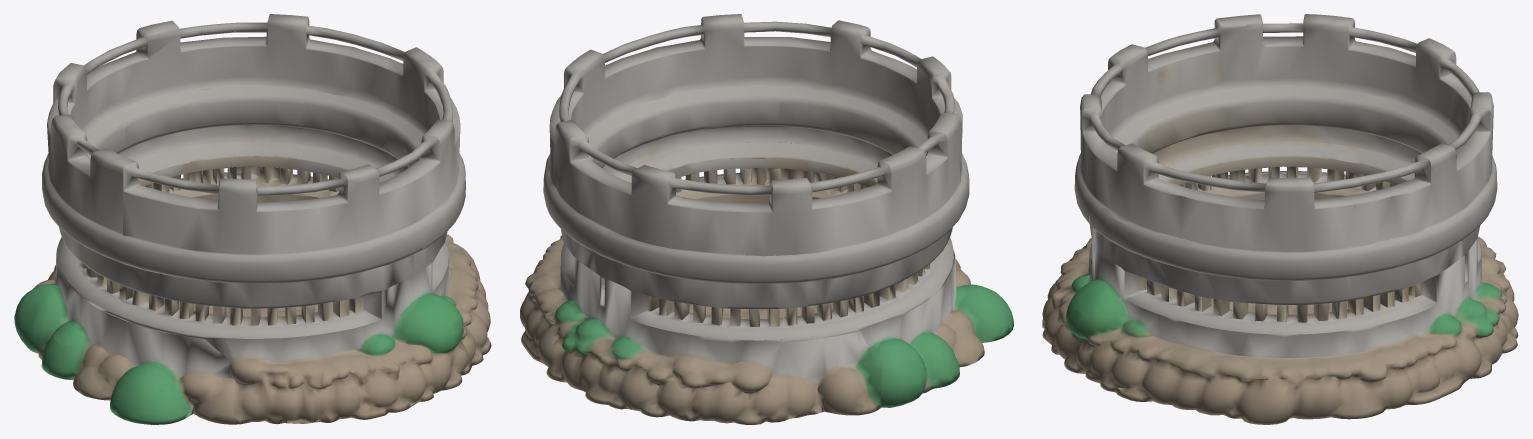
3 renders of one model, left to right at view 1: azimuth 30°, elevation 25°; view 2: azimuth 150°, elevation 25°; view 3: azimuth 270°, elevation 25°, orthographic.
Visible parts, largest first — view 1: material; view 2: material; view 3: material.
Part boxes in pixels (x1=…): material: x1=14, y1=14, x2=491, y2=424; material: x1=520, y1=14, x2=1013, y2=424; material: x1=1042, y1=14, x2=1518, y2=424.
Bounding box in the file's own units: 1.89 × 0.9968 × 1.9.
Materials: 1 (1 with a texture image).
